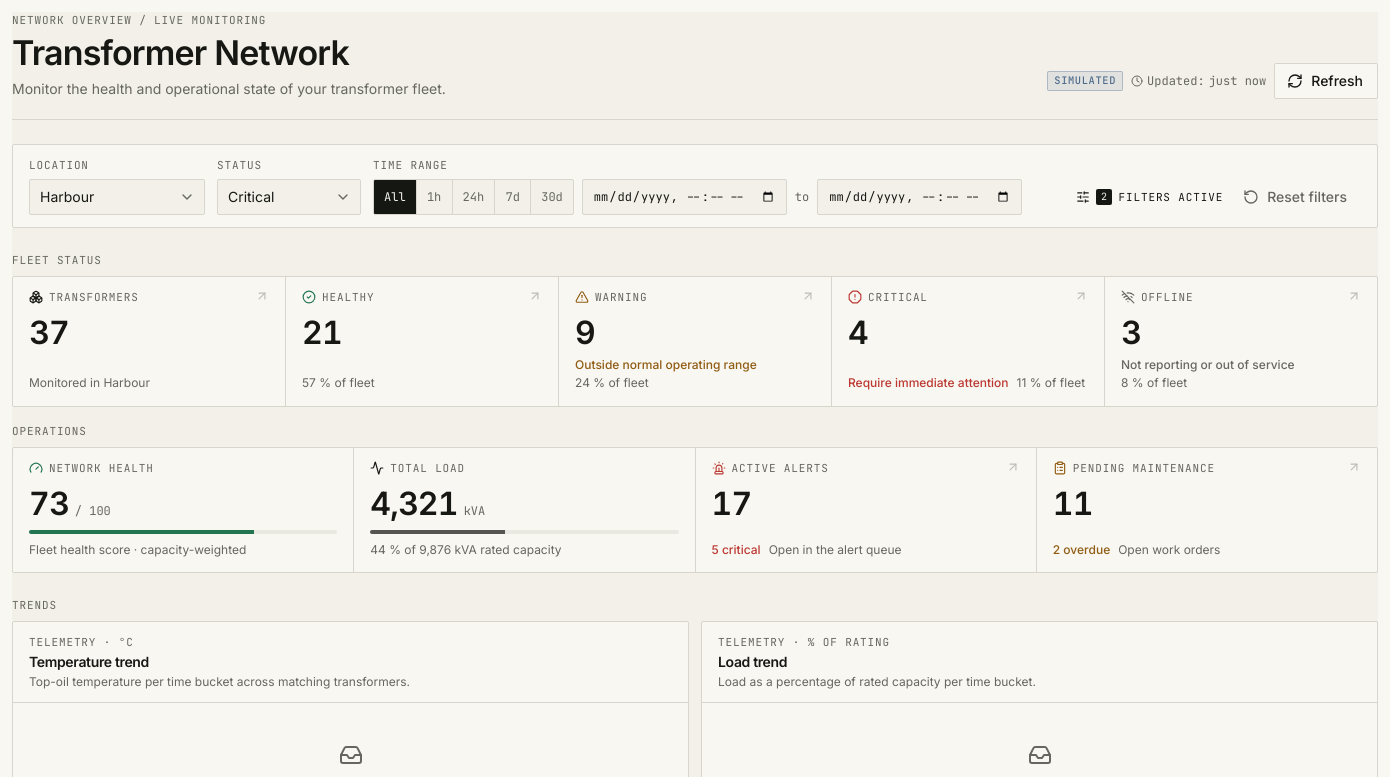
Test: DashboardPage › counts active filters and resets them all
The image size is (1390, 777).
Expected: the text "37" is shown, [29,316,69,348]
Expected: the text "filters active" is shown, [1118,190,1223,204]
Click the button "Reset filters": (1296, 196) [1231,178,1361,214]
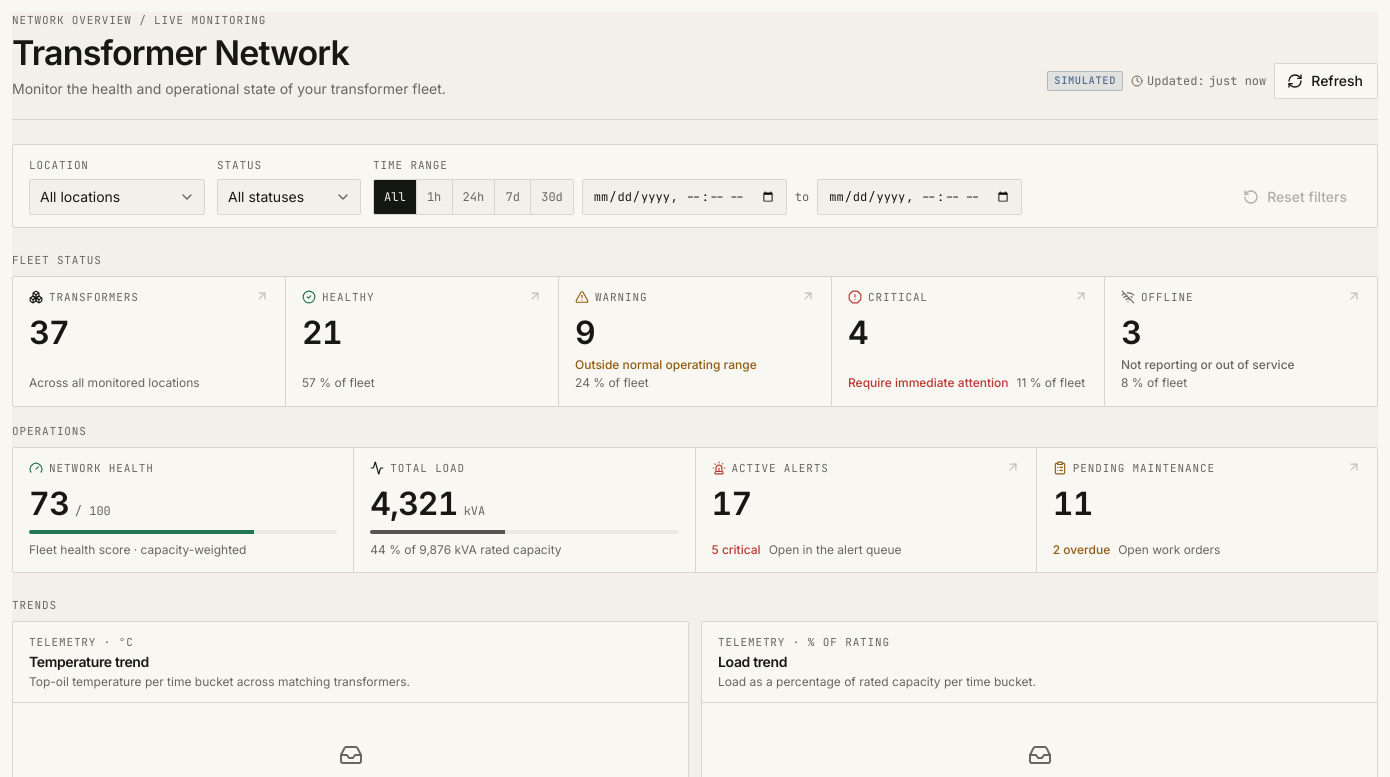
Expected: the button "Reset filters" is disabled, [1231,178,1361,214]
